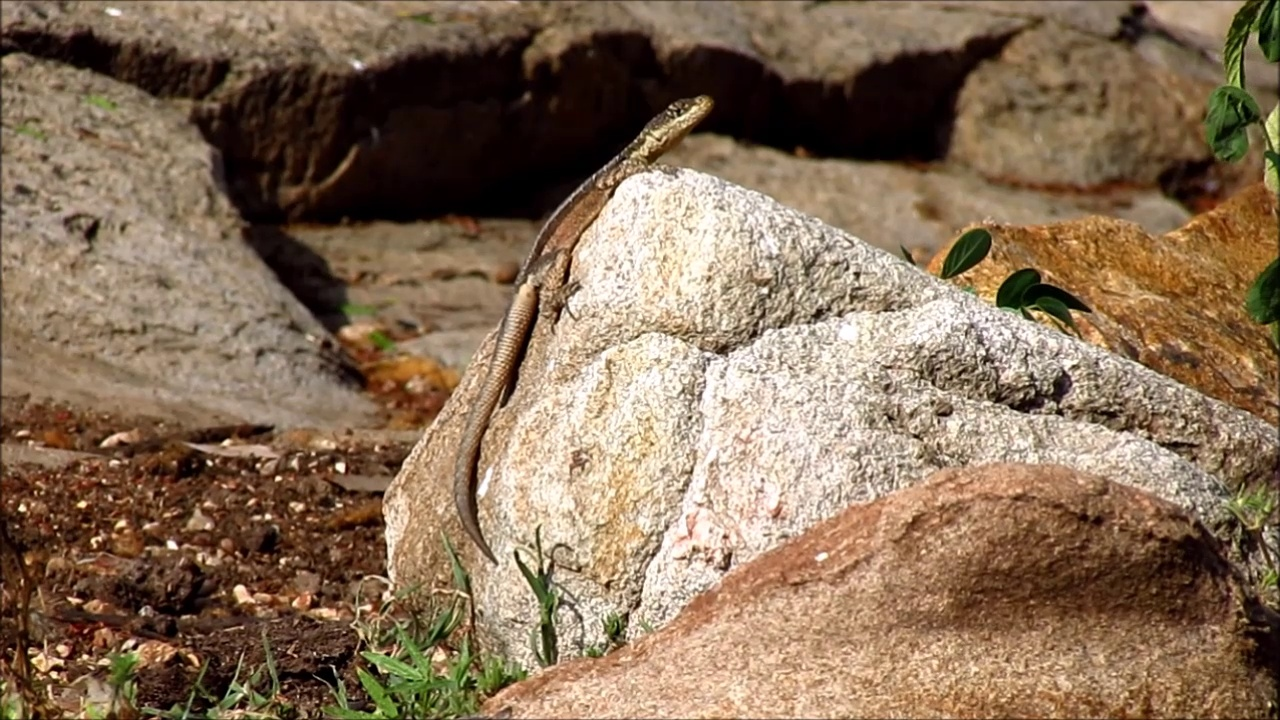body: (452, 128, 642, 567)
head: (642, 94, 712, 149)
